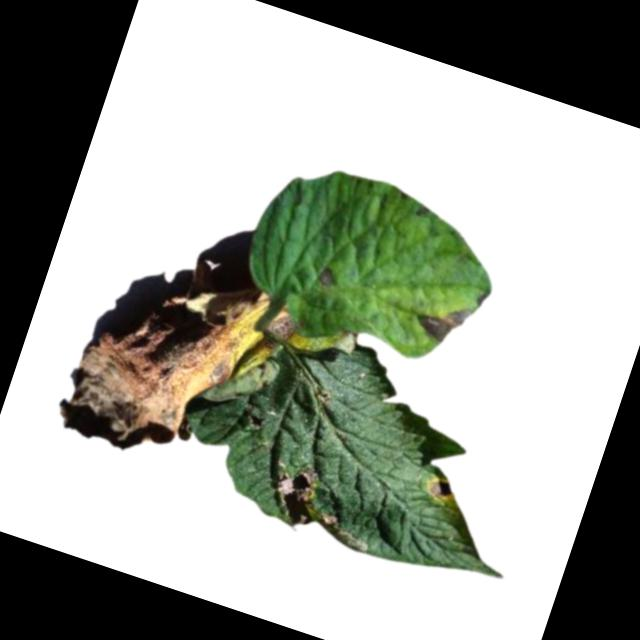Early_blight: (46, 241, 302, 490), (265, 458, 333, 532), (404, 289, 474, 351), (421, 471, 455, 504), (315, 262, 338, 288)
